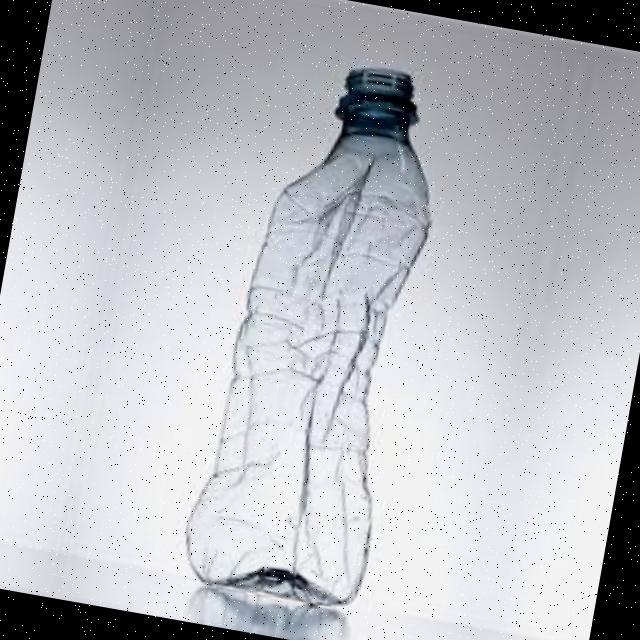Plastic: (163, 31, 483, 640), (571, 103, 640, 640), (0, 0, 53, 565)
